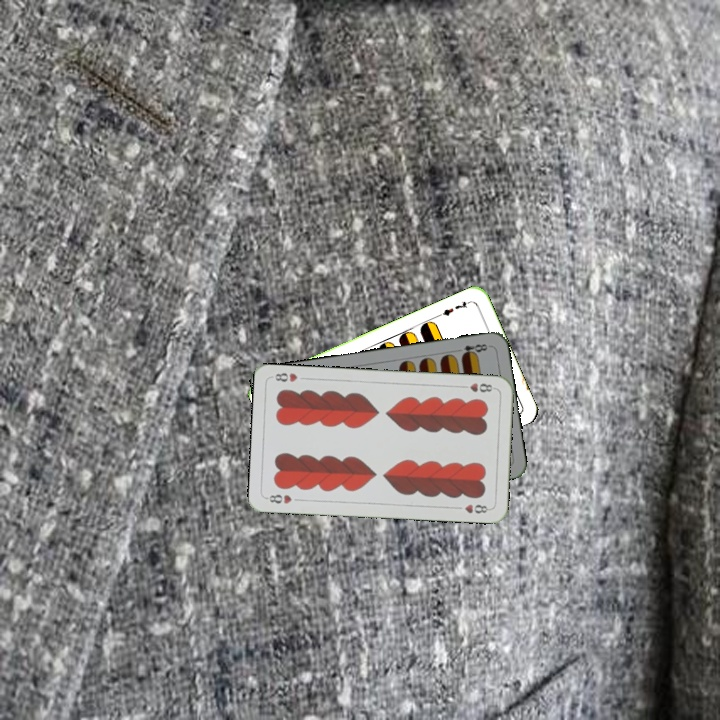E7: (435, 297, 474, 319)
E8: (451, 340, 492, 359)
H8: (457, 379, 498, 395), (263, 490, 294, 506)
